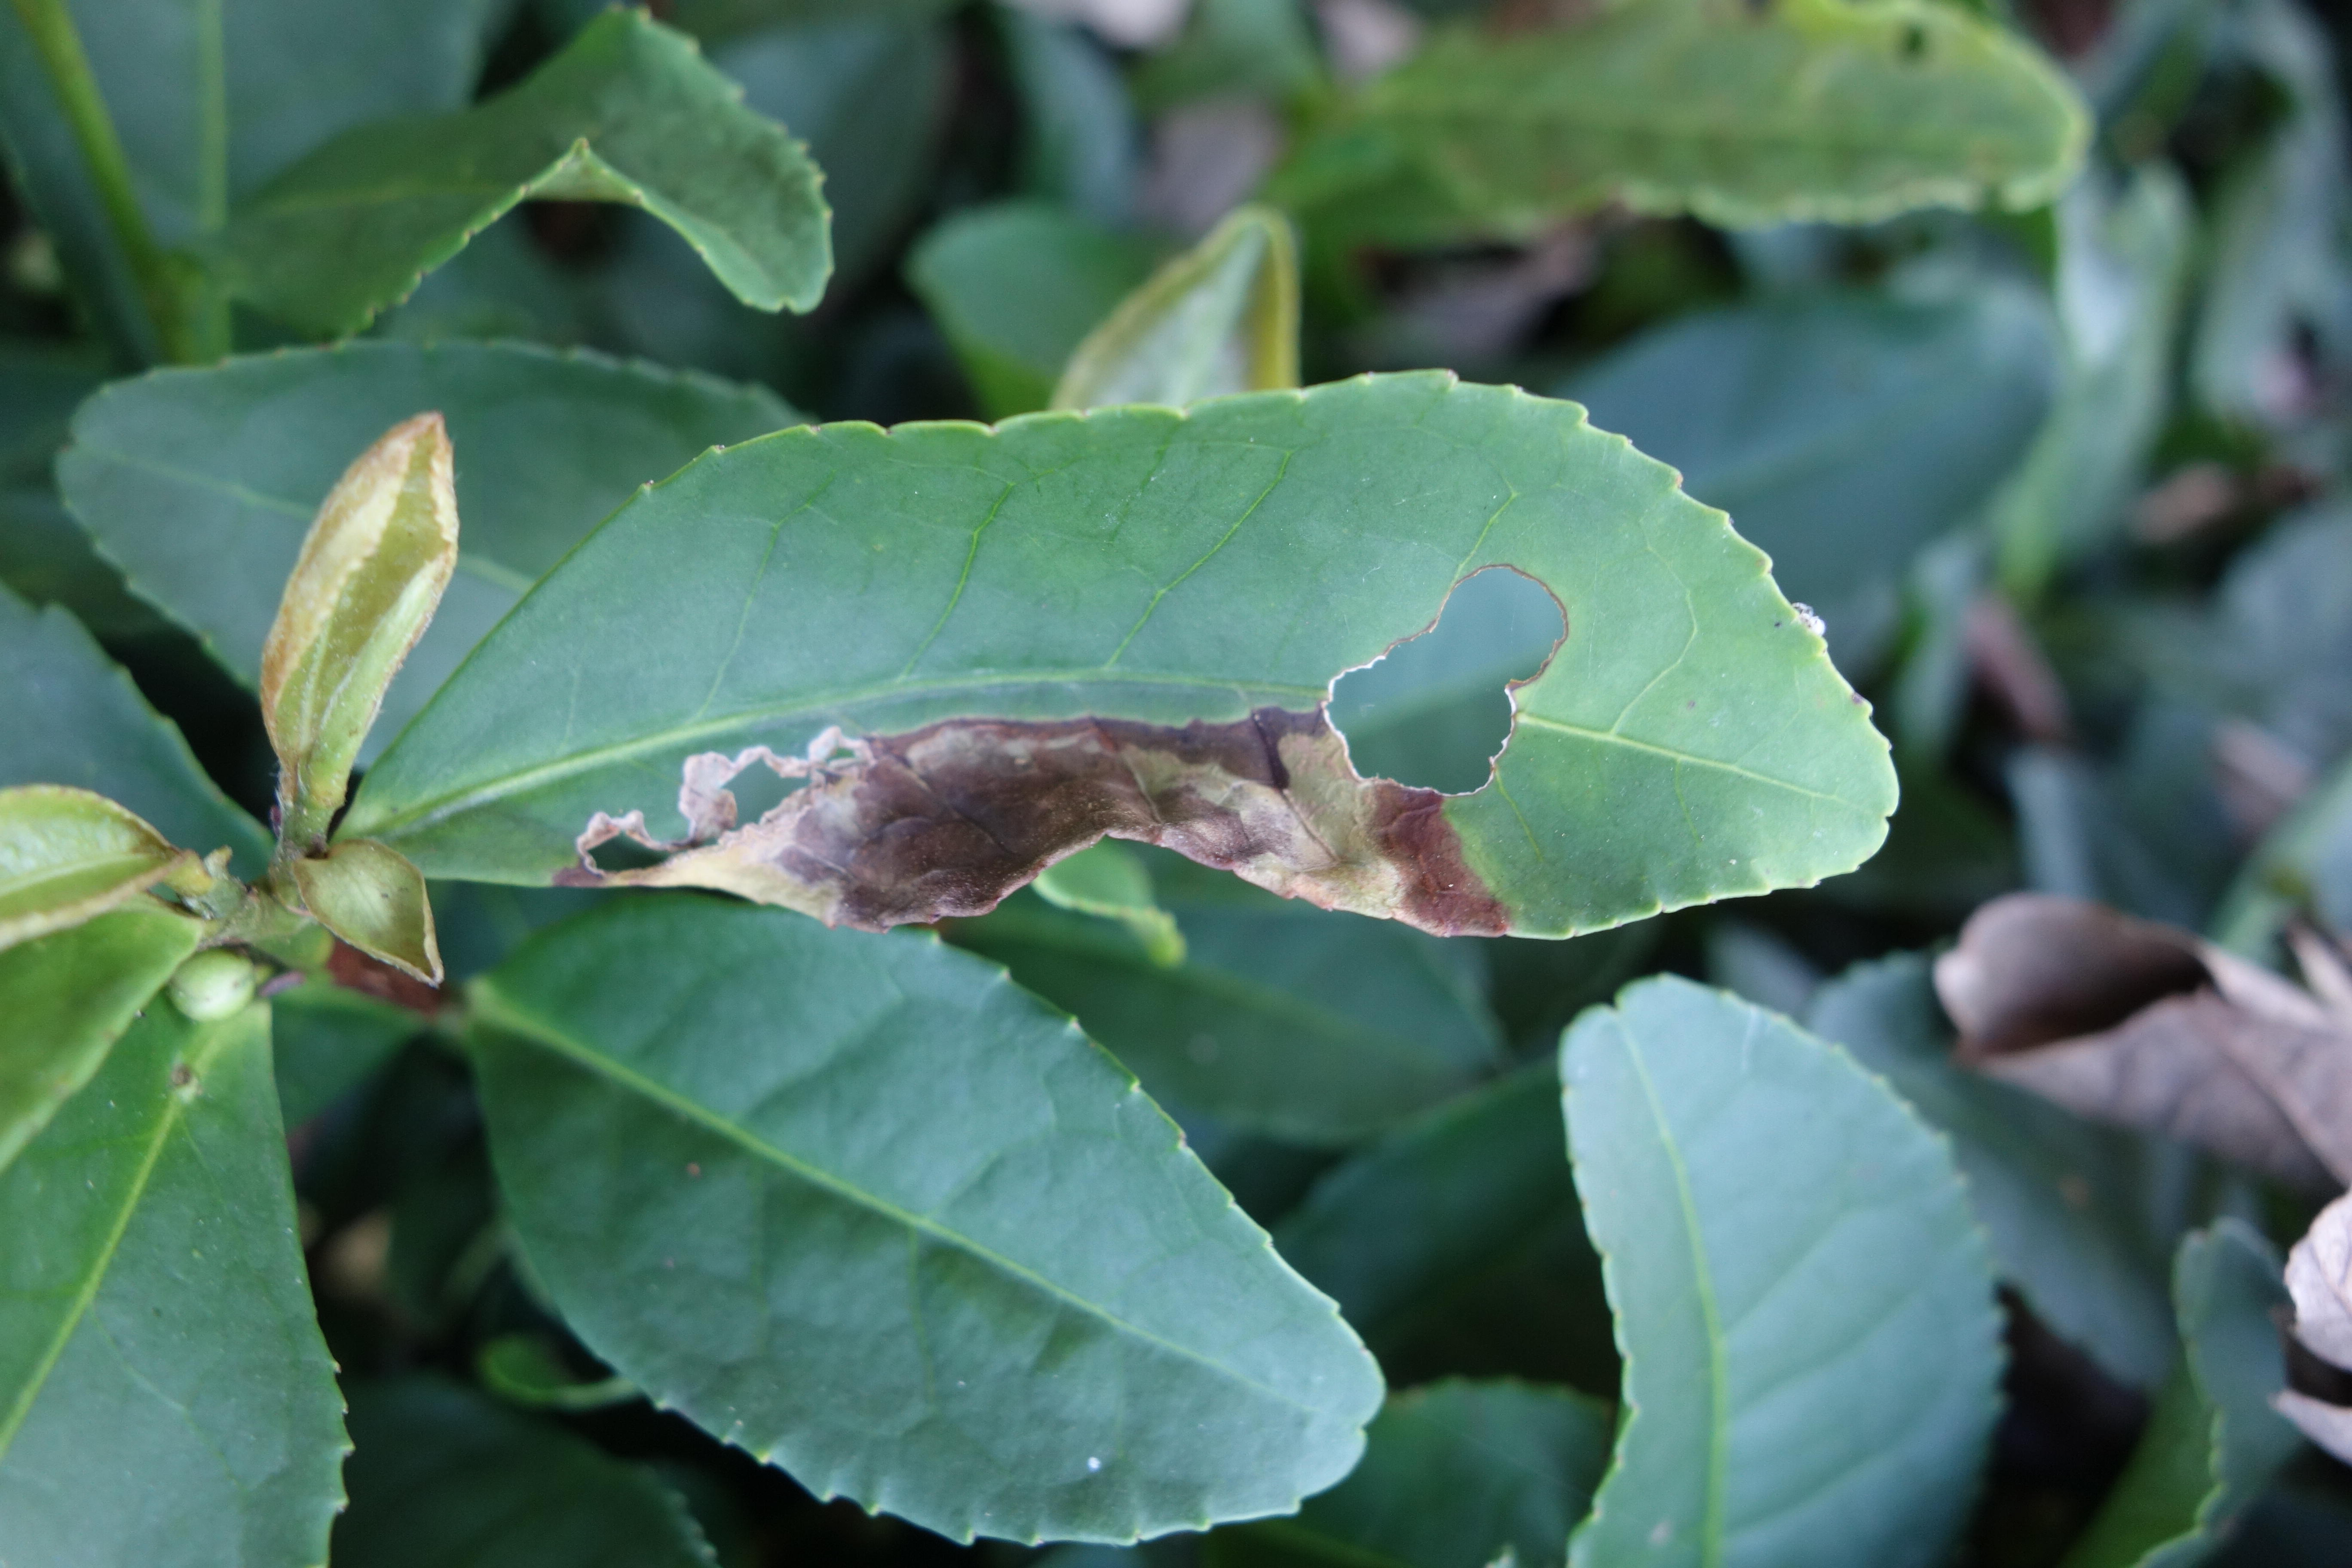healthy: (462, 906, 1393, 1549), (1545, 969, 2007, 1566)
tanju_high: (343, 369, 1909, 940)
tanju_low: (255, 408, 465, 824), (2, 784, 175, 948)
